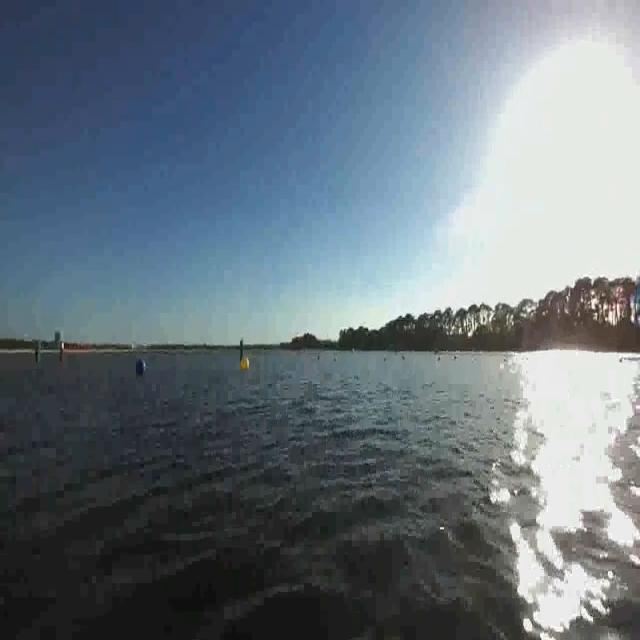blue-buoy: (135, 356, 146, 376)
yellow-buoy: (238, 356, 248, 372)
